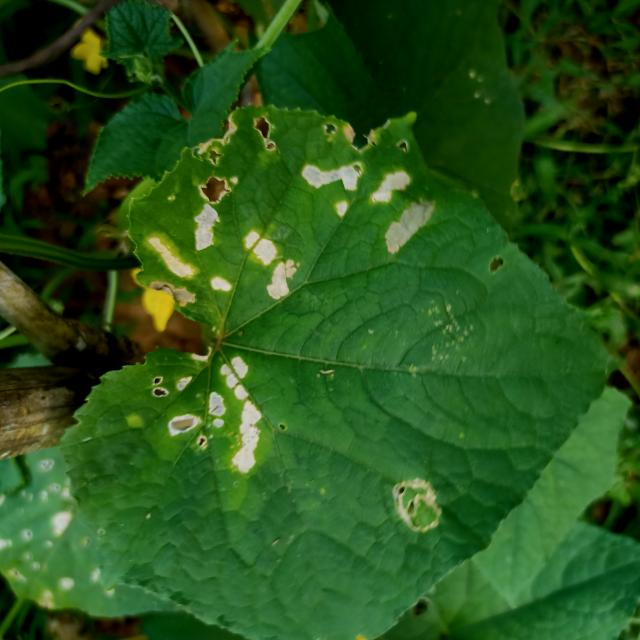disease_cucumber: (142, 134, 236, 321), (146, 343, 274, 477), (368, 160, 438, 262), (242, 223, 303, 304), (298, 153, 363, 220)
